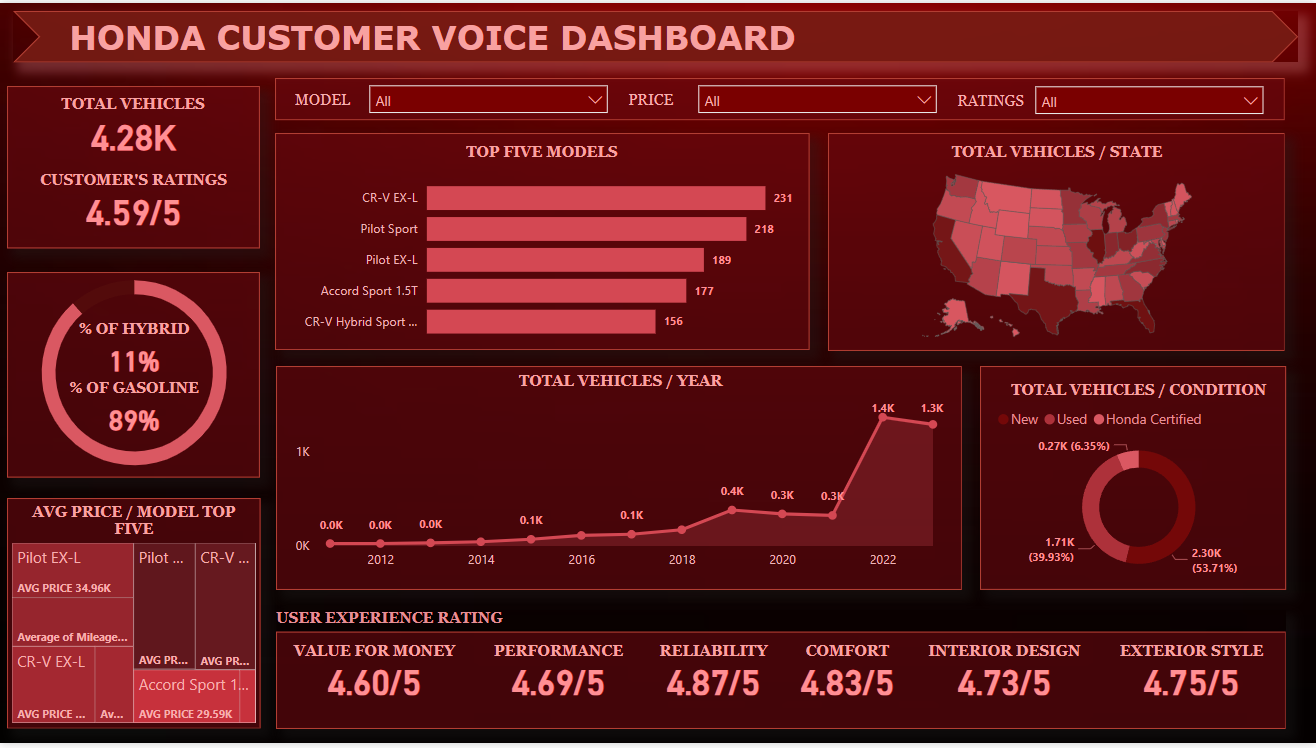

Layout of this report page (visuals, bound fields, positions):
{"tool":"powerbi","page":{"name":"Customer Trends","canvas":[1280,720],"ordinal":0},"visuals":[{"type":"shape","box":[12.2,7.8,1250,50],"z":0},{"type":"textbox","box":[62,9,763,51],"z":1000},{"type":"shape","box":[7,81,246,158],"z":2000},{"type":"card","title":"TOTAL VEHICLES","fields":{"Values":["honda_data.TOTAL VEHICLES1"]},"box":[51,90,158,60],"z":3000},{"type":"card","title":"CUSTOMER''S RATINGS","fields":{"Values":["honda_data.AVG MILE"]},"box":[18,164,223,57],"z":4000},{"type":"shape","box":[7,262,246,200],"z":5000},{"type":"shape","box":[6.7,481.1,246.7,224.4],"z":6000},{"type":"donutChart","fields":{"Category":["honda_data.Fuel_Type"],"Y":["honda_data.TOTAL VEHICLES"]},"box":[0,242,261,235],"z":7000},{"type":"card","title":"% OF HYBRID","fields":{"Values":["honda_data.% OF HBEV"]},"box":[51.1,308.9,157.8,60],"z":8000},{"type":"card","title":"% OF GASOLINE","fields":{"Values":["honda_data.% OF BEV"]},"box":[51.1,366.7,157.8,60],"z":9000},{"type":"shape","box":[267.8,73.3,982.2,41.1],"z":10000},{"type":"shape","box":[267.8,126.7,520,211.1],"z":11000},{"type":"shape","box":[805.3,126.4,444.5,212],"z":12000},{"type":"shapeMap","title":"TOTAL VEHICLES / STATE","fields":{"Category":["honda_data.State"],"Value":["honda_data.TOTAL VEHICLES"]},"box":[805.6,136.7,445.6,201.1],"z":13000},{"type":"shape","box":[953.3,353.3,297.8,217.8],"z":14000},{"type":"barChart","title":"TOP FIVE MODELS","fields":{"Category":["honda_data.Model"],"Y":["honda_data.TOTAL VEHICLES"]},"box":[277.8,136.7,497.8,202.2],"z":15000},{"type":"donutChart","title":"TOTAL VEHICLES / CONDITION","fields":{"Category":["honda_data.Condition"],"Y":["honda_data.PIE TOTAL VEHICLES"]},"box":[964.4,368.9,285.6,198.9],"z":16000},{"type":"shape","title":"USER EXPERIENCE RATING","box":[268.4,590.4,982.4,115.7],"z":17000},{"type":"card","title":"VALUE FOR MONEY","fields":{"Values":["honda_data.AVG Value_For_Money_Rating"]},"box":[252.9,622.5,222.7,56.4],"z":18000},{"type":"card","title":"COMFORT ","fields":{"Values":["honda_data.AVG COMFORT RATING"]},"box":[712.9,622.5,222.7,56.4],"z":19000},{"type":"card","title":"PERFORMANCE ","fields":{"Values":["honda_data.AVG PERFORMANCE"]},"box":[431.9,622.5,222.7,56.4],"z":20000},{"type":"card","title":"RELIABILITY ","fields":{"Values":["honda_data.AVG RELIABLITY"]},"box":[582.6,622.5,222.7,56.4],"z":21000},{"type":"card","title":"INTERIOR DESIGN ","fields":{"Values":["honda_data.AVG nterior_Design_Rating"]},"box":[865.7,622.5,222.7,56.4],"z":22000},{"type":"card","title":"EXTERIOR STYLE","fields":{"Values":["honda_data.AVG EXTERIOR"]},"box":[1047.5,622.5,222.7,56.4],"z":23000},{"type":"treemap","title":"AVG PRICE / MODEL TOP FIVE","fields":{"Values":["honda_data.AVG PRICE","Avg(honda_data.Mileage)"],"Group":["honda_data.Model"]},"box":[6.7,487.8,246.7,217.8],"z":24000},{"type":"slicer","fields":{"Values":["honda_data.Model"]},"box":[348.9,70,252.2,46.7],"z":25000},{"type":"textbox","box":[277.8,80,94.4,43.3],"z":26000},{"type":"textbox","box":[605.6,80,68.9,36.7],"z":27000},{"type":"textbox","box":[925.6,81.1,92.2,36.7],"z":28000},{"type":"slicer","fields":{"Values":["honda_data.Consumer_Rating (bins)"]},"box":[996.7,71.1,242.2,46.7],"z":29000},{"type":"shape","box":[268.4,353.1,667.2,217.9],"z":30000},{"type":"areaChart","title":"TOTAL VEHICLES / YEAR","fields":{"Category":["honda_data.Year"],"Y":["honda_data.TOTAL VEHICLES"]},"box":[282.2,360,643.3,200],"z":31000},{"type":"slicer","fields":{"Values":["honda_data.Price (bins)"]},"box":[668.9,70,252.2,46.7],"z":32000}]}

Visuals, with their boxes in screenshot pixels (x1, y1, x2, y2), scaled from the page's 1280x720 canvas onto the 1316x748 screenshot:
shape: region(13, 8, 1298, 60)
textbox: region(64, 9, 848, 62)
shape: region(7, 84, 260, 248)
"TOTAL VEHICLES" card: region(52, 94, 215, 156)
"CUSTOMER''S RATINGS" card: region(19, 170, 248, 230)
shape: region(7, 272, 260, 480)
shape: region(7, 500, 261, 733)
donutChart - honda_data.Fuel_Type x honda_data.TOTAL VEHICLES: region(0, 251, 268, 496)
"% OF HYBRID" card: region(53, 321, 215, 383)
"% OF GASOLINE" card: region(53, 381, 215, 443)
shape: region(275, 76, 1285, 119)
shape: region(275, 132, 810, 351)
shape: region(828, 131, 1285, 352)
"TOTAL VEHICLES / STATE" shapeMap: region(828, 142, 1286, 351)
shape: region(980, 367, 1286, 593)
"TOP FIVE MODELS" barChart: region(286, 142, 797, 352)
"TOTAL VEHICLES / CONDITION" donutChart: region(992, 383, 1285, 590)
"USER EXPERIENCE RATING" shape: region(276, 613, 1286, 734)
"VALUE FOR MONEY" card: region(260, 647, 489, 705)
"COMFORT " card: region(733, 647, 962, 705)
"PERFORMANCE " card: region(444, 647, 673, 705)
"RELIABILITY " card: region(599, 647, 828, 705)
"INTERIOR DESIGN " card: region(890, 647, 1119, 705)
"EXTERIOR STYLE" card: region(1077, 647, 1306, 705)
"AVG PRICE / MODEL TOP FIVE" treemap: region(7, 507, 261, 733)
slicer - honda_data.Model: region(359, 73, 618, 121)
textbox: region(286, 83, 383, 128)
textbox: region(623, 83, 693, 121)
textbox: region(952, 84, 1046, 122)
slicer - honda_data.Consumer_Rating (bins): region(1025, 74, 1274, 122)
shape: region(276, 367, 962, 593)
"TOTAL VEHICLES / YEAR" areaChart: region(290, 374, 952, 582)
slicer - honda_data.Price (bins): region(688, 73, 947, 121)
